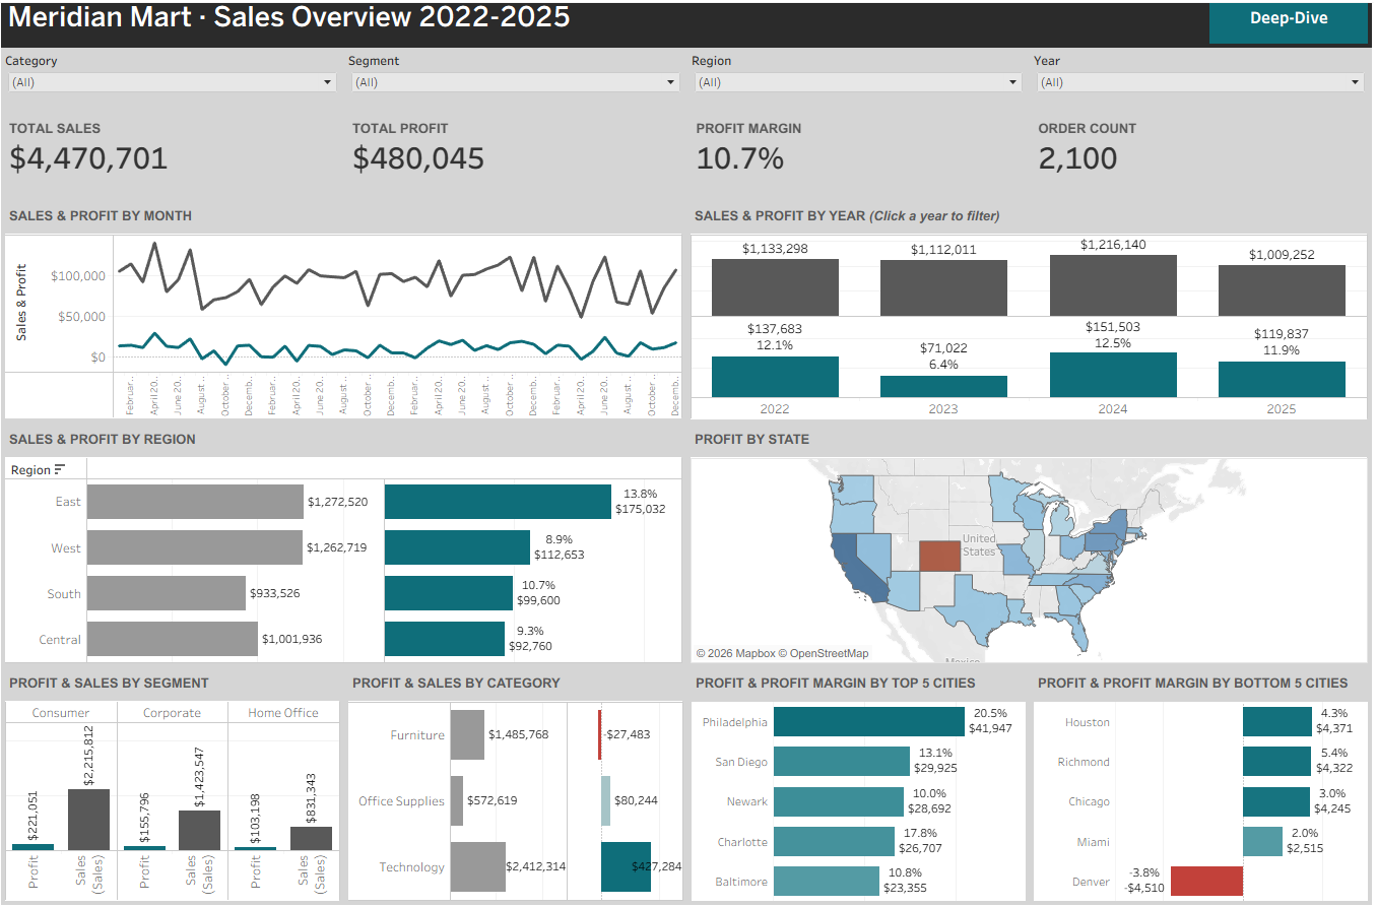

This screenshot's page, from the dashboard's own definition file:
{"tool":"tableau","page":{"name":"Overview","canvas":[1366,920],"ordinal":1},"visuals":[{"type":"text","box":[8,8,1186,60]},{"type":"dashboard-object","box":[1194,8,164,60]},{"type":"filter","title":"Category","param":"[federated.1s5vqj20c20fh211pelmb0asn3el].[none:Category:nk]","box":[8,68,338,50]},{"type":"filter","title":"Segment","param":"[federated.1s5vqj20c20fh211pelmb0asn3el].[none:Segment:nk]","box":[346,68,338,50]},{"type":"filter","title":"Region","param":"[federated.1s5vqj20c20fh211pelmb0asn3el].[none:Region:nk]","box":[684,68,337,50]},{"type":"filter","title":"Trend (Year)","param":"[federated.1s5vqj20c20fh211pelmb0asn3el].[tyr:Order Date:ok]","box":[1021,68,337,50]},{"type":"worksheet","title":"Sales","mark":"Automatic","box":[8,118,338,100]},{"type":"worksheet","title":"Profit","mark":"Automatic","box":[346,118,338,100]},{"type":"worksheet","title":"Profit Margin","mark":"Automatic","box":[684,118,337,100]},{"type":"worksheet","title":"Order Count","mark":"Automatic","box":[1021,118,337,100]},{"type":"worksheet","title":"Trend (Month)","mark":"Line","rows":["Sales","Profit"],"cols":["Order Date"],"box":[8,218,675,220]},{"type":"worksheet","title":"Trend (Year)","mark":"Bar","rows":["Sales","Profit"],"cols":["Order Date"],"box":[683,218,675,220]},{"type":"worksheet","title":"Region","mark":"Automatic","rows":["Region"],"cols":["Sales","Profit"],"box":[8,438,675,240]},{"type":"worksheet","title":"State Map","mark":"Multipolygon","box":[683,438,675,240]},{"type":"worksheet","title":"Segment","mark":"Automatic","cols":["Segment"],"box":[8,678,338,234]},{"type":"worksheet","title":"Category","mark":"Automatic","rows":["Category"],"cols":["Sales","Profit"],"box":[346,678,338,234]},{"type":"worksheet","title":"Cities (Top 5)","mark":"Automatic","rows":["City"],"cols":["Profit"],"box":[684,678,337,234]},{"type":"worksheet","title":"Cities (Bottom 5)","mark":"Automatic","rows":["City"],"cols":["Profit"],"box":[1021,678,337,234]}]}

Visuals, with their boxes in screenshot pixels (x1, y1, x2, y2), scaled from the page's 1366x920 canvas onto the 1374x907 screenshot:
text: box=[8, 8, 1201, 67]
dashboard-object: box=[1201, 8, 1366, 67]
"Category" filter: box=[8, 67, 348, 116]
"Segment" filter: box=[348, 67, 688, 116]
"Region" filter: box=[688, 67, 1027, 116]
"Trend (Year)" filter: box=[1027, 67, 1366, 116]
"Sales" worksheet: box=[8, 116, 348, 215]
"Profit" worksheet: box=[348, 116, 688, 215]
"Profit Margin" worksheet: box=[688, 116, 1027, 215]
"Order Count" worksheet: box=[1027, 116, 1366, 215]
"Trend (Month)" worksheet (Line marks): box=[8, 215, 687, 432]
"Trend (Year)" worksheet (Bar marks): box=[687, 215, 1366, 432]
"Region" worksheet: box=[8, 432, 687, 668]
"State Map" worksheet (Multipolygon marks): box=[687, 432, 1366, 668]
"Segment" worksheet: box=[8, 668, 348, 899]
"Category" worksheet: box=[348, 668, 688, 899]
"Cities (Top 5)" worksheet: box=[688, 668, 1027, 899]
"Cities (Bottom 5)" worksheet: box=[1027, 668, 1366, 899]
